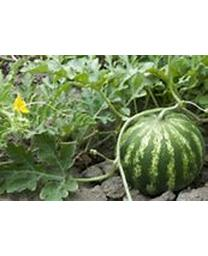watermelon: (119, 109, 203, 192)
